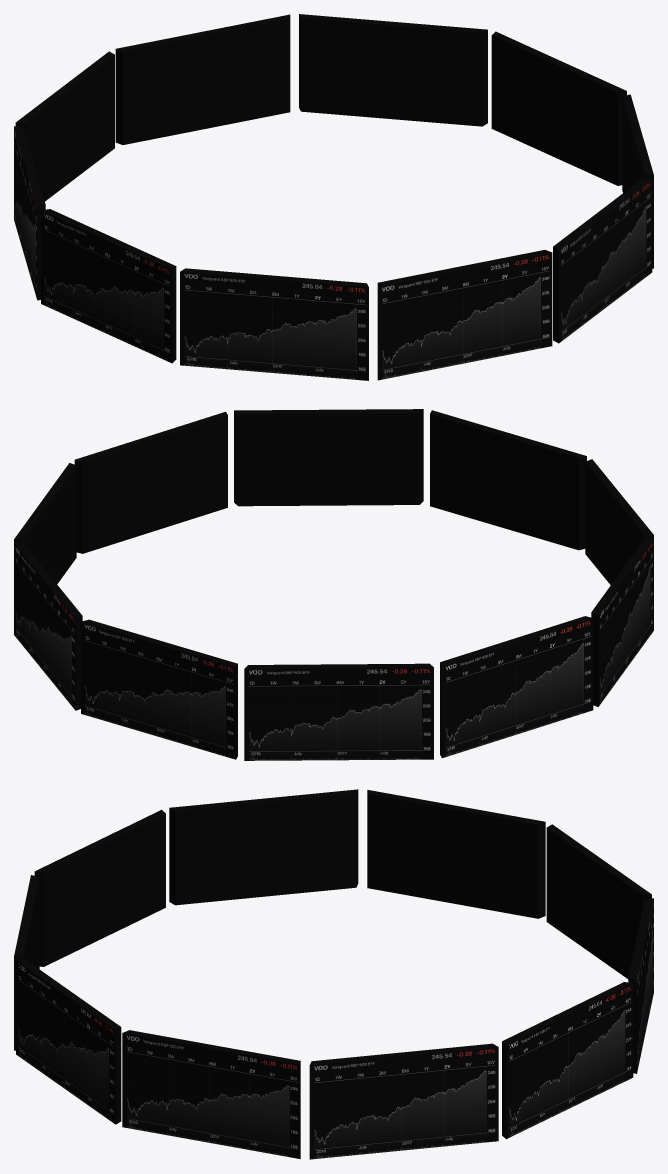
Rendered from Kiosk_screen_2.glb.
3 views of the same model, one above another, from view 1: azimuth 30°, elevation 25°; view 2: azimuth 150°, elevation 25°; view 3: azimuth 270°, elevation 25° (orthographic). The views are drawn at different scales.
Visible parts, largest first — view 1: Cylinder.011; view 2: Cylinder.011; view 3: Cylinder.011.
Part boxes in pixels (box(x1,y1,x2,y2)): Cylinder.011: box(14, 14, 653, 380); Cylinder.011: box(14, 409, 653, 760); Cylinder.011: box(14, 789, 653, 1159).
Size of the model in its own units: 0.0794 by 0.0126 by 0.0778.
3 materials, 1 textured.
